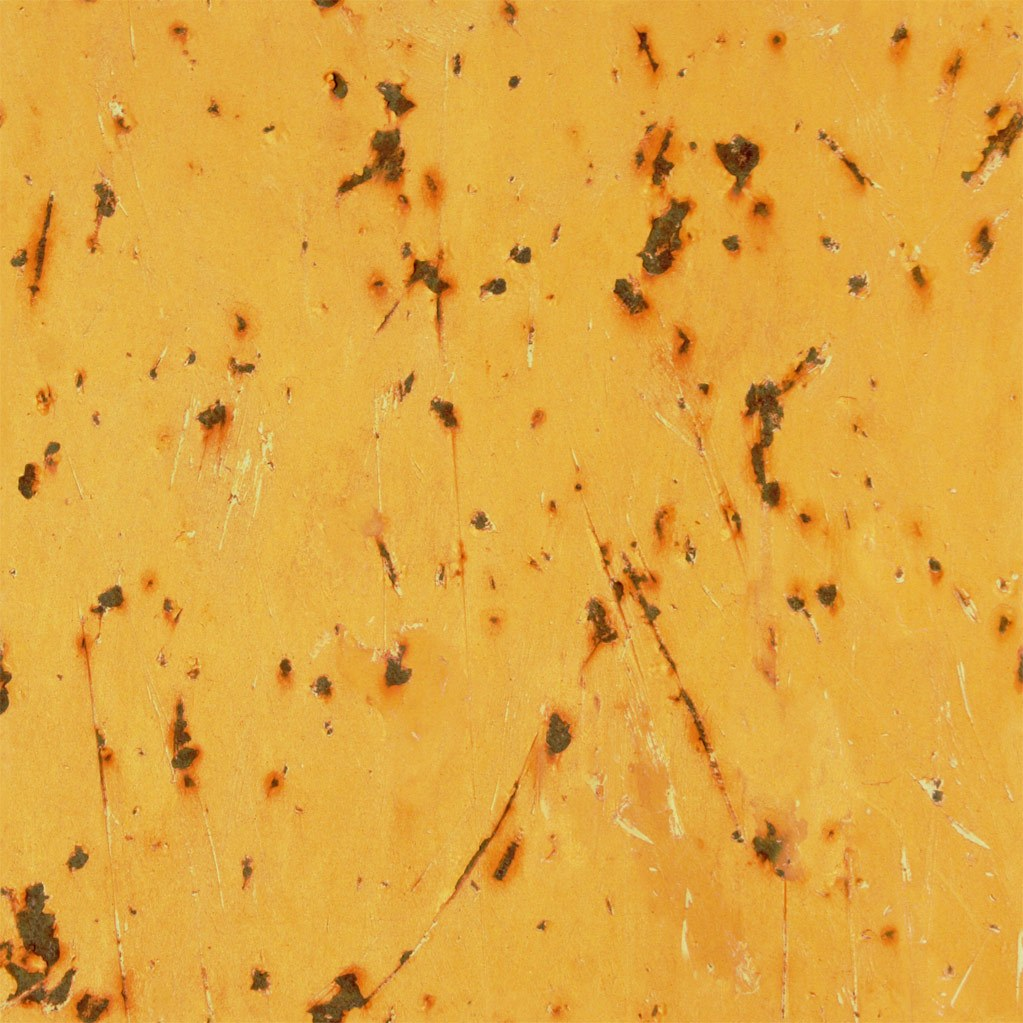rust: (316, 73, 423, 200), (726, 376, 795, 512), (613, 199, 685, 324), (1, 887, 75, 1007), (62, 582, 138, 651), (162, 696, 214, 792), (709, 138, 771, 199), (15, 436, 66, 508), (379, 648, 423, 695), (542, 710, 580, 761), (191, 407, 236, 435)
